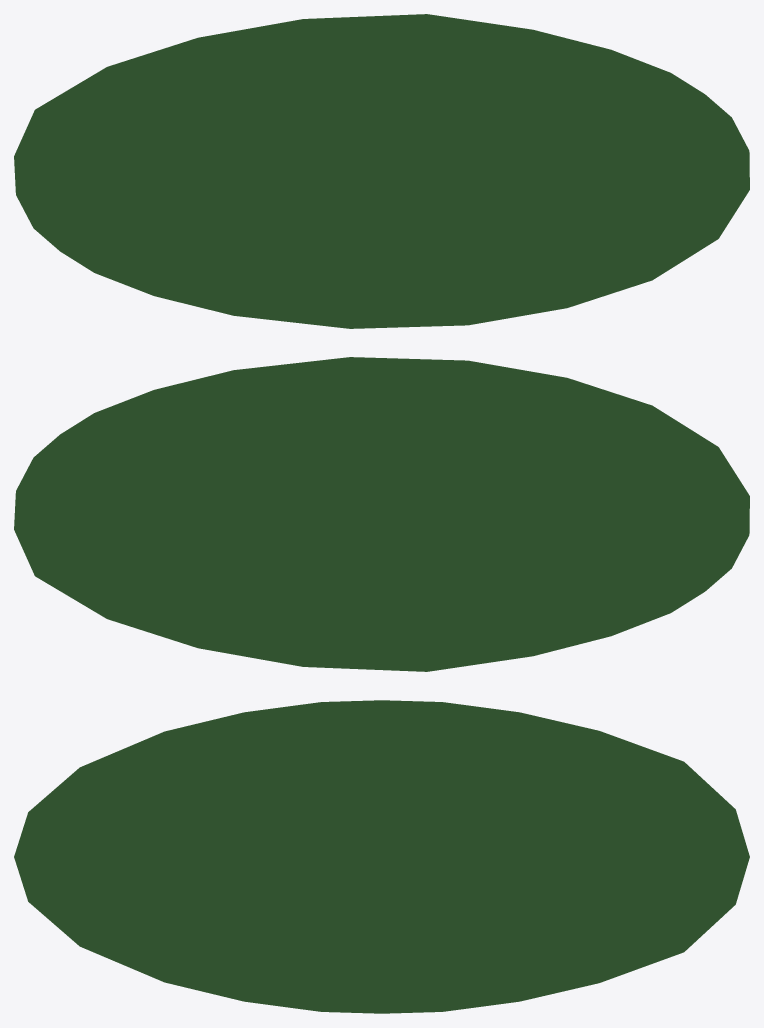
File: environment2.dae
3 renders of one model, top to bottom at view 1: azimuth 30°, elevation 25°; view 2: azimuth 150°, elevation 25°; view 3: azimuth 270°, elevation 25°, orthographic.
Parts seen in each view (by area): view 1: polySurface45, polySurface43, polySurface33, polySurface31, polySurface21, polySurface55, polySurface57, polySurface19, polySurface7, polySurface9, polySurface69, polySurface67 (+24 smaller); view 2: polySurface43, polySurface45, polySurface33, polySurface31, polySurface19, polySurface57, polySurface55, polySurface21, polySurface9, polySurface7, polySurface67, polySurface69 (+24 smaller); view 3: polySurface45, polySurface43, polySurface33, polySurface31, polySurface57, polySurface55, polySurface21, polySurface19, polySurface9, polySurface7, polySurface69, polySurface67 (+24 smaller).
Boxes of the visible parts, x1,y1,x2,y2 form: polySurface45: (275,173,443,241); polySurface43: (383,147,547,217); polySurface33: (217,128,382,198); polySurface31: (321,103,489,172); polySurface21: (260,61,429,127); polySurface55: (336,218,505,284); polySurface57: (444,190,602,262); polySurface19: (163,83,320,155); polySurface7: (198,19,365,82); polySurface9: (107,38,258,110); polySurface69: (400,263,566,325); polySurface67: (506,235,651,307); polySurface43: (275,444,443,512); polySurface45: (383,468,547,538); polySurface33: (321,513,489,582); polySurface31: (217,487,382,557); polySurface19: (260,558,429,624); polySurface57: (336,401,505,467); polySurface55: (444,423,602,495); polySurface21: (163,530,320,602); polySurface9: (198,603,365,666); polySurface7: (107,575,258,647); polySurface67: (400,360,566,422); polySurface69: (506,378,651,450); polySurface45: (259,804,381,856); polySurface43: (259,857,381,909); polySurface33: (382,804,504,856); polySurface31: (382,857,504,909); polySurface57: (136,857,263,908); polySurface55: (136,805,263,856); polySurface21: (500,857,627,908); polySurface19: (500,805,627,856); polySurface9: (618,807,749,856); polySurface7: (618,857,749,906); polySurface69: (14,807,145,856); polySurface67: (14,857,145,906).
Size of what is drawn, in the model's own units: 2371 by 0 by 2353.
